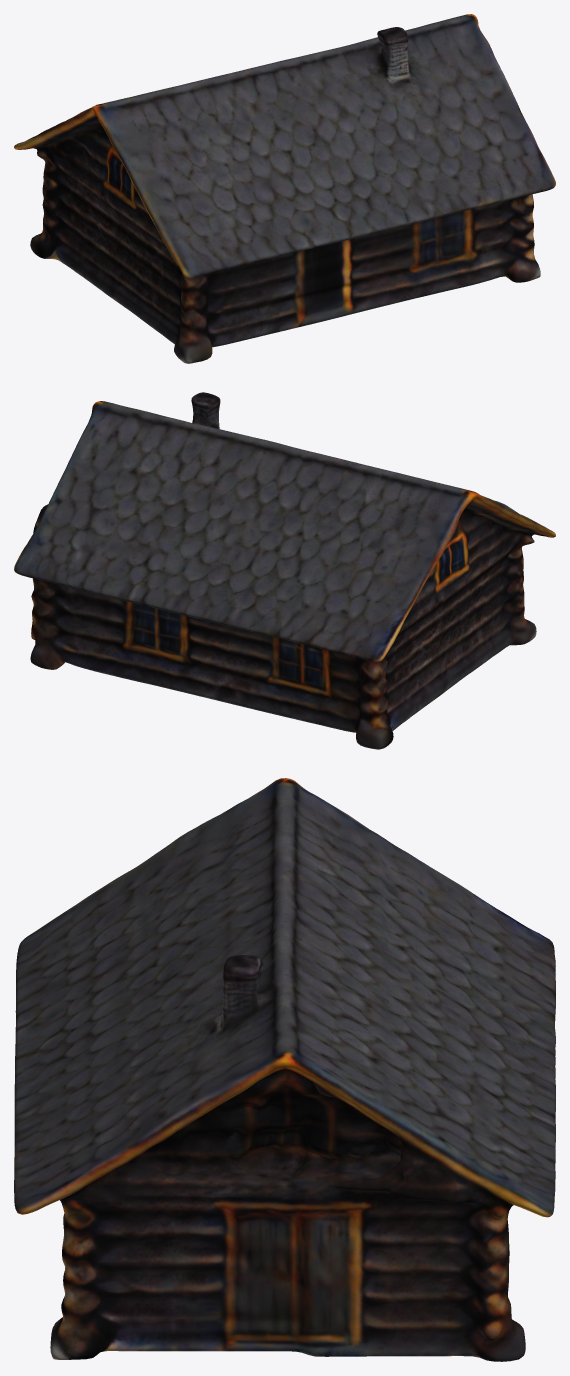
The model's file is 83946b150ff7_Cabin.fbx.
3 renders of one model, top to bottom at view 1: azimuth 30°, elevation 25°; view 2: azimuth 150°, elevation 25°; view 3: azimuth 270°, elevation 25°, orthographic. The views are drawn at different scales.
Parts seen in each view (by area): view 1: high_poly; view 2: high_poly; view 3: high_poly.
Part boxes in pixels (bbox=[...]): high_poly: bbox=[14, 14, 555, 363]; high_poly: bbox=[14, 392, 555, 749]; high_poly: bbox=[14, 778, 555, 1361].
Bounding box in the file's own units: 100 × 54.95 × 79.42.
